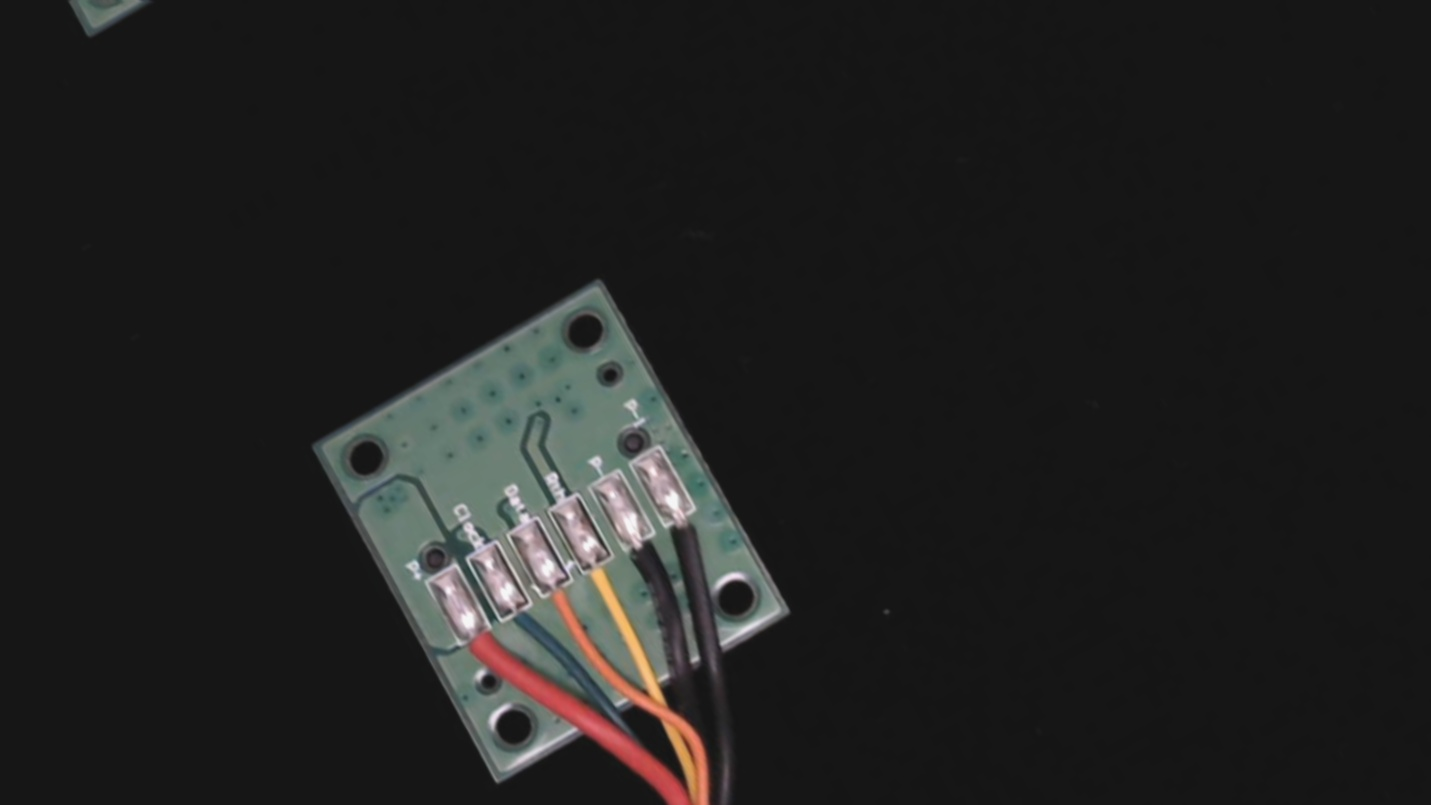Black: (602, 508, 691, 606)
Black1: (645, 487, 727, 577)
Green: (479, 573, 564, 667)
Orange: (521, 553, 605, 647)
Red: (439, 601, 524, 695)
Yellow: (564, 529, 653, 627)
